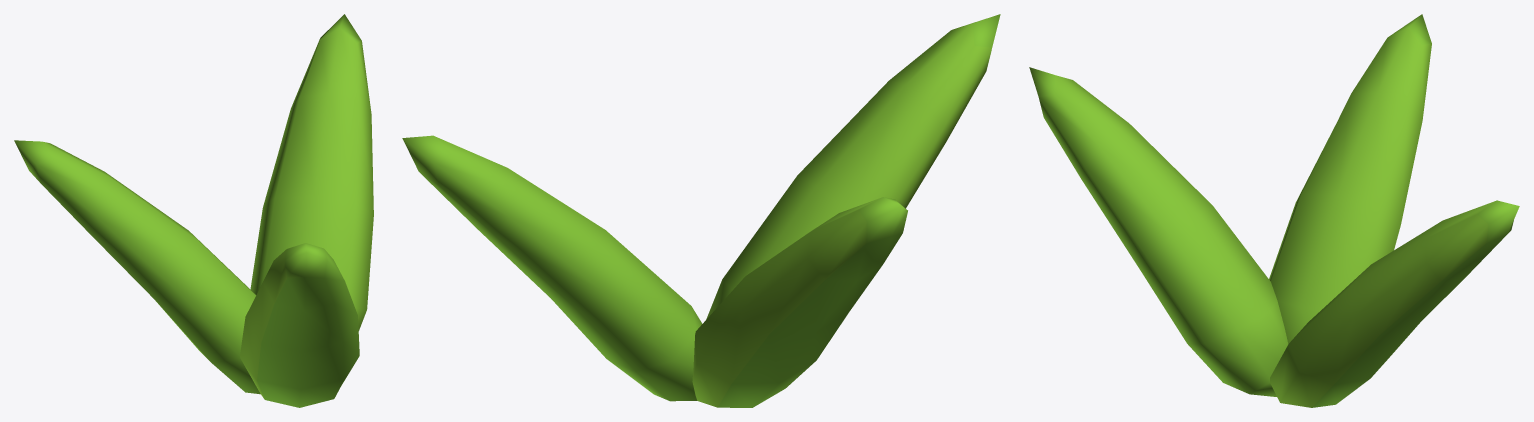
Rendered from GrassA.fbx.
The picture shows the model from 3 angles, left to right: view 1: azimuth 30°, elevation 25°; view 2: azimuth 150°, elevation 25°; view 3: azimuth 270°, elevation 25°; orthographic projection. The views are drawn at different scales.
Parts seen in each view (by area): view 1: Cube.061; view 2: Cube.061; view 3: Cube.061.
Boxes of the visible parts, box(x1,y1,x2,y2) form: Cube.061: box(14, 14, 373, 407); Cube.061: box(402, 14, 1000, 407); Cube.061: box(1029, 14, 1519, 407).
Bounding box in the file's own units: 0.6546 × 0.4313 × 0.7022.
Materials: 1 (1 with a texture image).
